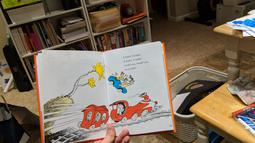text block: (118, 52, 154, 72)
